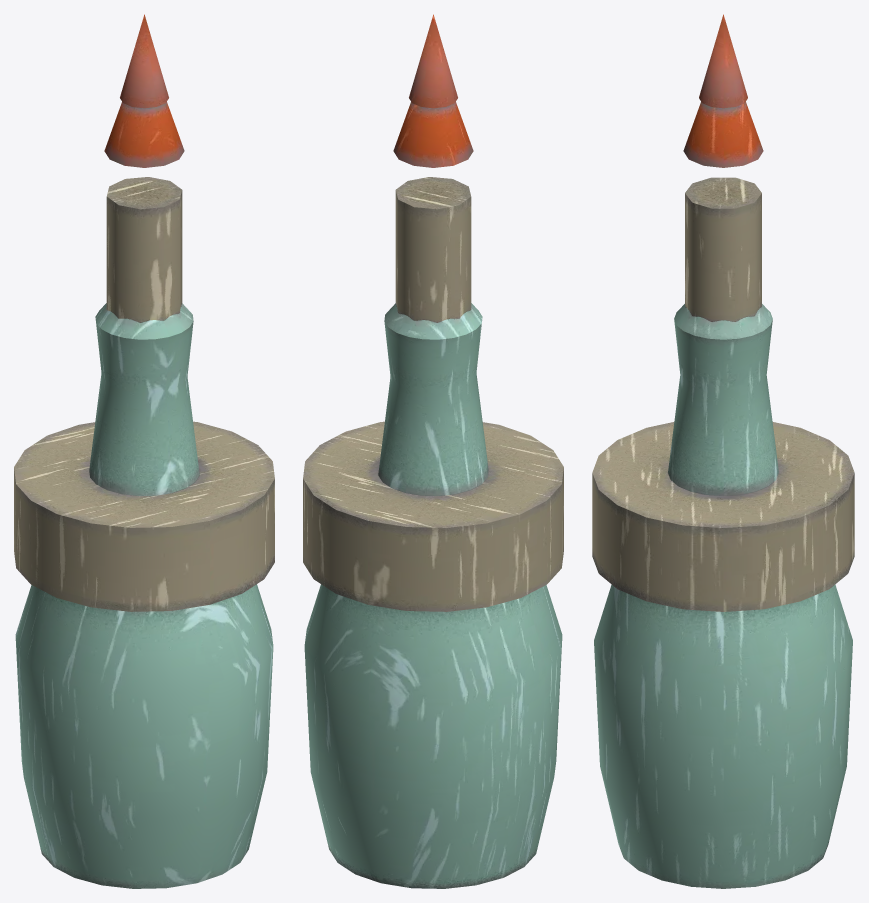
File: molotov.glb
3 views of the same model, side by side, from view 1: azimuth 30°, elevation 25°; view 2: azimuth 150°, elevation 25°; view 3: azimuth 270°, elevation 25° (orthographic).
Parts seen in each view (by area): view 1: body_metal; view 2: body_metal; view 3: body_metal.
Part boxes in pixels (x1,y1,x2,y2): body_metal: (14, 14, 274, 888); body_metal: (303, 14, 563, 888); body_metal: (592, 14, 854, 888).
Size of the model in its own units: 0.085 by 0.299 by 0.085.
Materials: 1 (1 with a texture image).
